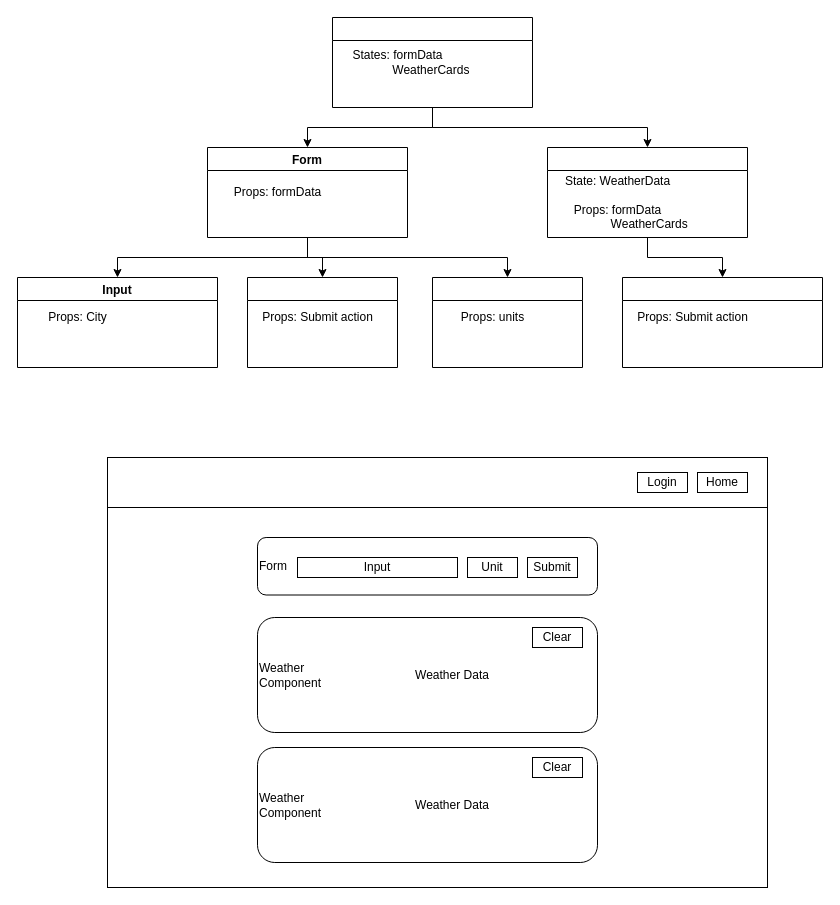
Image size: 840x905. Some labels were removed from this diagram. The box of each missing label's shape, as (x1, y1, x2, y2) in pixels:
App: (332, 16, 532, 108)
ClearButton: (622, 276, 822, 368)
Dropdown: (432, 276, 582, 368)
SubmitButton: (246, 276, 398, 368)
Title: (106, 456, 768, 508)
WeatherComponent: (546, 146, 748, 238)
